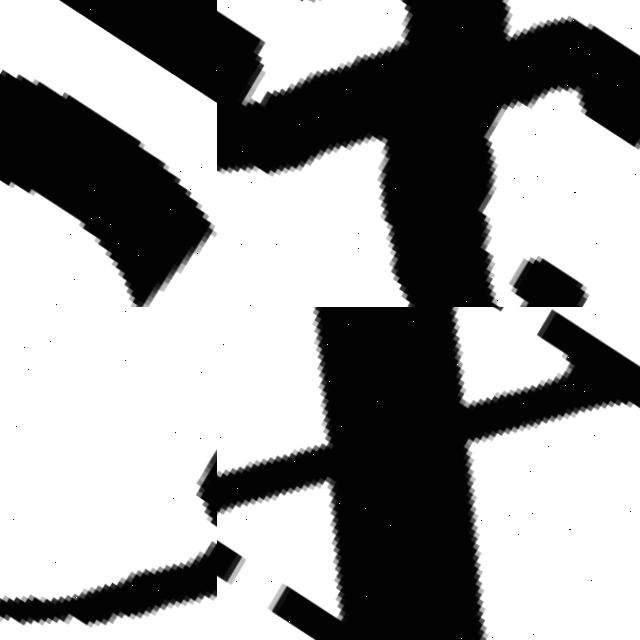C: (0, 0, 217, 307)
X: (217, 307, 640, 640), (217, 0, 640, 307)
Y: (0, 307, 217, 640)
